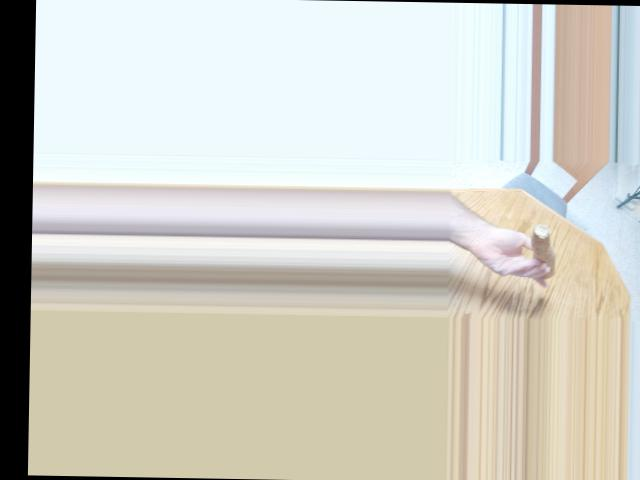sweet_potato: (538, 231, 557, 280)
